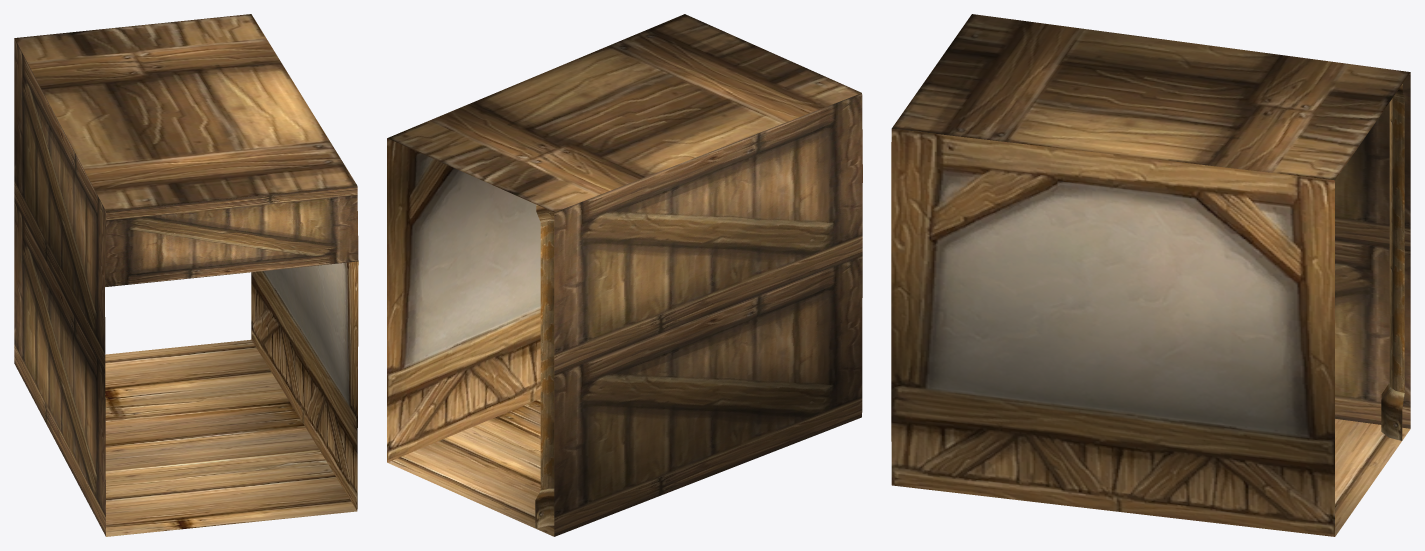
Rendered from stormwind_096.fbx.
3 renders of one model, left to right at view 1: azimuth 30°, elevation 25°; view 2: azimuth 150°, elevation 25°; view 3: azimuth 270°, elevation 25°, orthographic. The views are drawn at different scales.
Visible parts, largest first — view 1: stormwind_096_56, stormwind_096_55, stormwind_096_51, stormwind_096_48; view 2: stormwind_096_56, stormwind_096_55, stormwind_096_48, stormwind_096_51, stormwind_096_53; view 3: stormwind_096_48, stormwind_096_55, stormwind_096_56, stormwind_096_53, stormwind_096_51.
Boxes of the visible parts, x1,y1,x2,y2 form: stormwind_096_56: (14,38,358,536); stormwind_096_55: (14,14,356,211); stormwind_096_51: (105,339,357,536); stormwind_096_48: (251,261,358,510); stormwind_096_56: (554,93,862,536); stormwind_096_55: (387,14,861,212); stormwind_096_48: (387,138,540,462); stormwind_096_51: (387,398,554,536); stormwind_096_53: (535,204,554,528); stormwind_096_48: (891,129,1334,536); stormwind_096_55: (892,14,1410,180); stormwind_096_56: (1335,73,1410,428); stormwind_096_53: (1381,84,1404,440); stormwind_096_51: (1335,419,1410,536).
Size of the model in its own units: 5.96 by 5.95 by 7.85.
